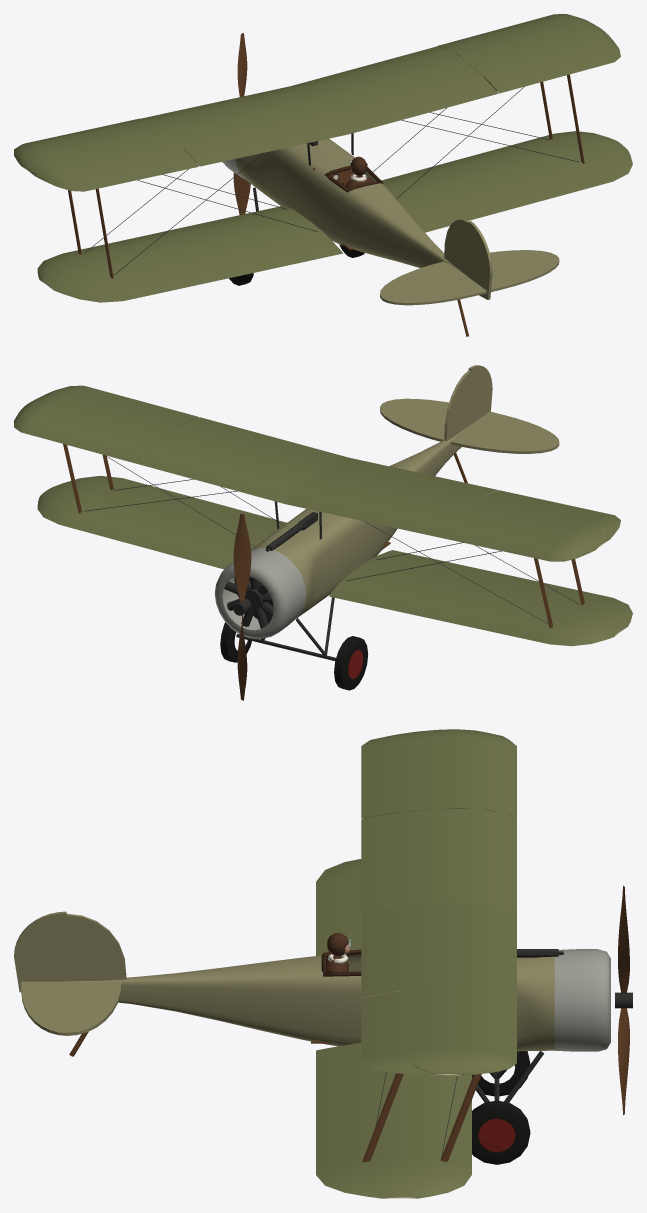
Rendered from sopwith_pup.glb.
3 renders of one model, top to bottom at view 1: azimuth 30°, elevation 25°; view 2: azimuth 150°, elevation 25°; view 3: azimuth 270°, elevation 25°, orthographic. The views are drawn at different scales.
Parts seen in each view (by area): view 1: Wing_Lower_L, Wing_Upper_R, Wing_Upper_L, Wing_Lower_R, Fuselage, Aileron_L, Aileron_R, Elevator, Stabilizer_L, Wires, Rudder, Struts (+4 smaller); view 2: Wing_Upper_R, Wing_Upper_L, Wing_Lower_L, Wing_Lower_R, Fuselage, Cowling, Elevator, Wheels, PropBlades, Stabilizer_L, Aileron_L, Aileron_R (+8 smaller); view 3: Wing_Upper_L, Wing_Upper_R, Wing_Lower_R, Fuselage, Cowling, Wheels, Wing_Lower_L, Aileron_R, Fin, Rudder, Aileron_L, Stabilizer_R (+5 smaller).
Boxes of the visible parts, x1=… form: Wing_Lower_L: x1=37, y1=205, x2=343, y2=302; Wing_Upper_R: x1=291, y1=14, x2=608, y2=133; Wing_Upper_L: x1=14, y1=86, x2=349, y2=175; Wing_Lower_R: x1=381, y1=131, x2=632, y2=232; Fuselage: x1=235, y1=138, x2=466, y2=275; Aileron_L: x1=31, y1=149, x2=198, y2=191; Aileron_R: x1=483, y1=34, x2=620, y2=93; Elevator: x1=382, y1=256, x2=559, y2=305; Stabilizer_L: x1=380, y1=261, x2=468, y2=300; Wires: x1=84, y1=86, x2=578, y2=275; Rudder: x1=468, y1=221, x2=492, y2=299; Struts: x1=68, y1=74, x2=584, y2=278; Wing_Upper_R: x1=14, y1=391, x2=349, y2=504; Wing_Upper_L: x1=286, y1=458, x2=608, y2=561; Wing_Lower_L: x1=329, y1=550, x2=632, y2=646; Wing_Lower_R: x1=37, y1=475, x2=286, y2=569; Fuselage: x1=251, y1=426, x2=468, y2=618; Cowling: x1=214, y1=548, x2=306, y2=639; Elevator: x1=383, y1=398, x2=559, y2=447; Wheels: x1=220, y1=622, x2=368, y2=690; PropBlades: x1=233, y1=514, x2=251, y2=700; Stabilizer_L: x1=451, y1=425, x2=557, y2=453; Aileron_L: x1=483, y1=490, x2=620, y2=541; Aileron_R: x1=46, y1=385, x2=198, y2=423; Wing_Upper_L: x1=361, y1=729, x2=516, y2=913; Wing_Upper_R: x1=361, y1=902, x2=516, y2=1075; Wing_Lower_R: x1=316, y1=1043, x2=471, y2=1198; Fuselage: x1=71, y1=954, x2=554, y2=1051; Cowling: x1=554, y1=949, x2=610, y2=1051; Wheels: x1=472, y1=1051, x2=530, y2=1164; Wing_Lower_L: x1=316, y1=859, x2=361, y2=955; Aileron_R: x1=361, y1=991, x2=436, y2=1075; Fin: x1=66, y1=913, x2=126, y2=981; Rudder: x1=14, y1=911, x2=66, y2=992; Aileron_L: x1=361, y1=732, x2=414, y2=818; Stabilizer_R: x1=66, y1=981, x2=121, y2=1035.
Bounding box in the file's own units: 8.08 × 2.66 × 6.16.
